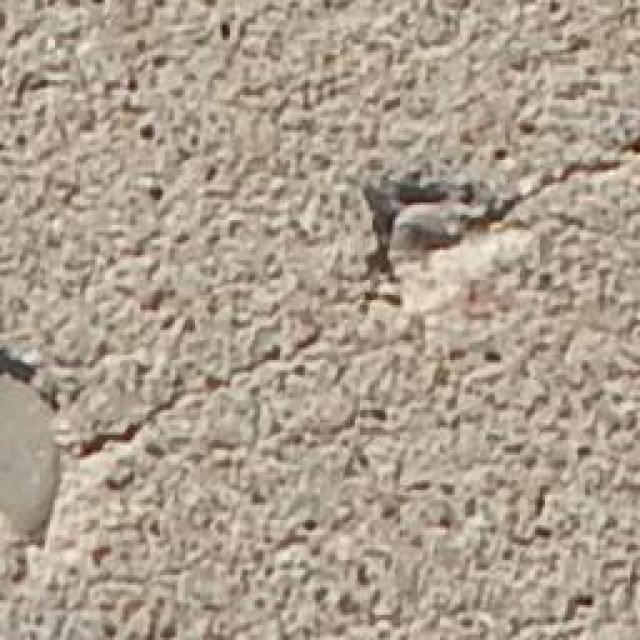concrete-crack: (0, 138, 640, 465)
